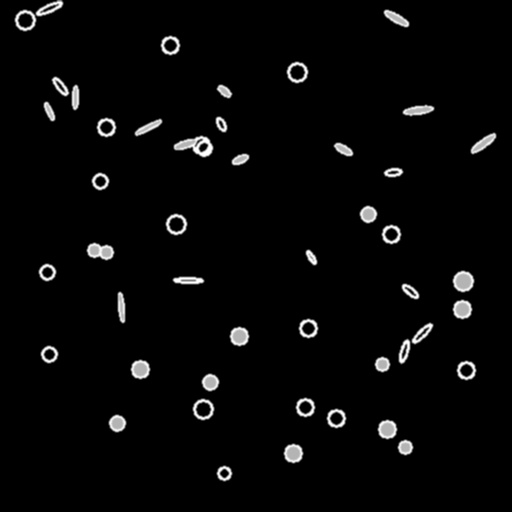pseudomonas: (470, 132, 496, 154), (134, 118, 162, 136), (411, 322, 433, 344), (383, 9, 409, 27), (36, 0, 62, 16), (51, 76, 69, 96), (173, 137, 197, 151), (403, 105, 433, 115), (401, 283, 419, 299), (398, 339, 410, 363), (333, 142, 353, 156), (216, 83, 232, 99), (231, 152, 249, 166), (117, 292, 125, 322), (43, 101, 55, 121), (305, 249, 317, 265), (215, 116, 227, 132), (174, 277, 202, 283), (72, 86, 78, 108), (385, 168, 401, 176)
synechocystis: (288, 63, 306, 81), (16, 11, 34, 29), (194, 400, 212, 418), (167, 215, 185, 233), (454, 272, 472, 290), (328, 410, 344, 426), (285, 445, 301, 461), (231, 328, 247, 344), (98, 119, 114, 135), (297, 399, 313, 415), (458, 362, 474, 378), (300, 320, 316, 336), (193, 137, 209, 153), (454, 301, 470, 317), (383, 226, 399, 242), (162, 37, 178, 53), (132, 361, 148, 377), (379, 421, 395, 437), (42, 347, 56, 361), (203, 375, 217, 389), (40, 265, 54, 279), (93, 174, 107, 188), (110, 416, 124, 430), (361, 207, 375, 221), (197, 141, 211, 155), (100, 246, 112, 258), (399, 441, 411, 453), (88, 244, 100, 256), (376, 358, 388, 370), (218, 467, 230, 479)
